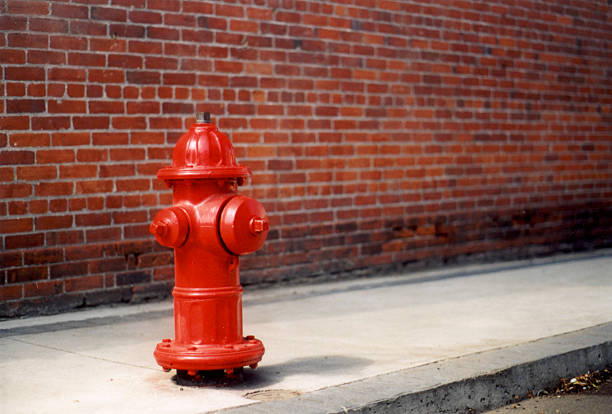firehdyrant: (142, 106, 275, 391)
